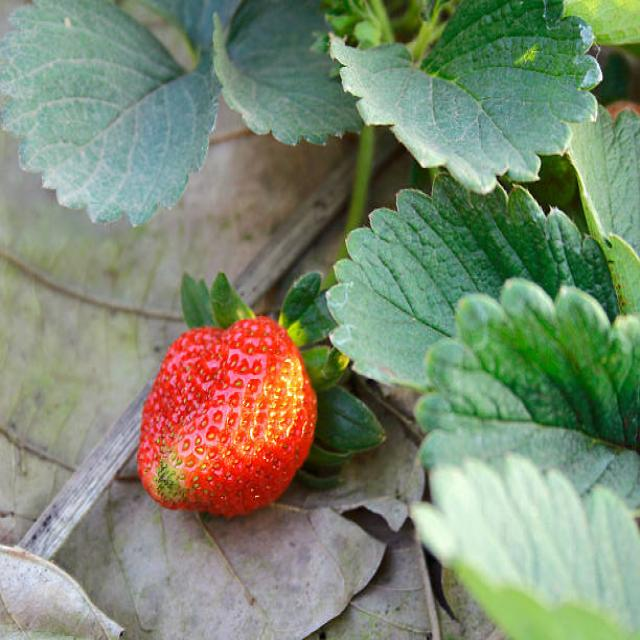Healthy Fruit: (136, 314, 315, 518)
